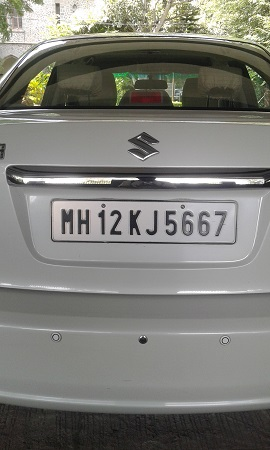licenseplate: (49, 196, 237, 245)
